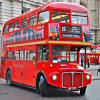bus: (2, 1, 100, 100)
